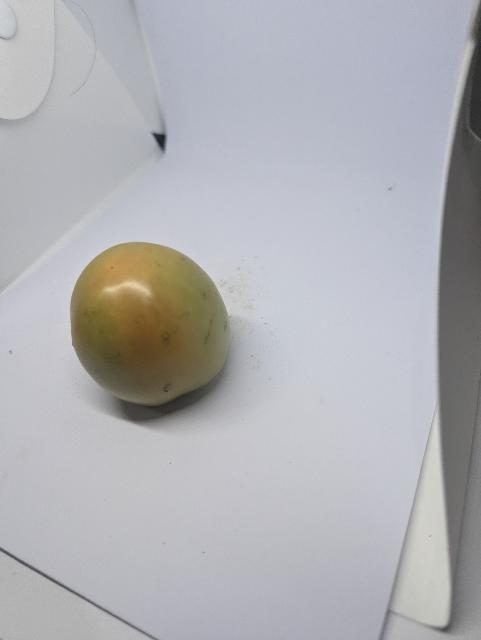breaker: (67, 241, 241, 411)
